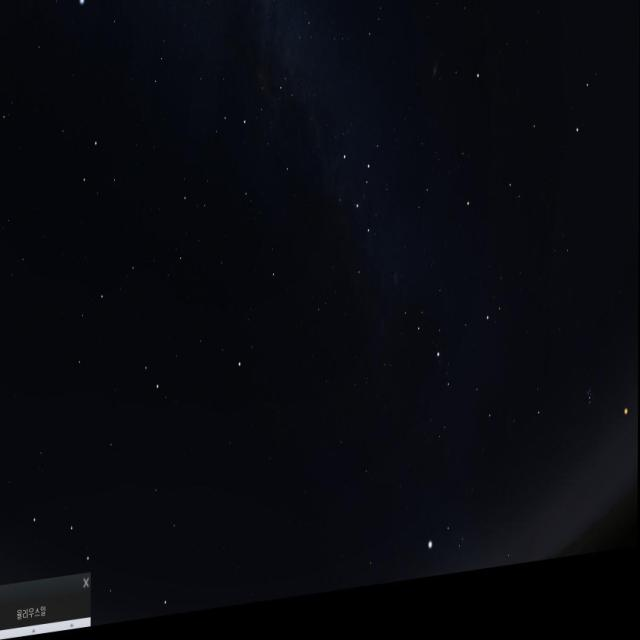cassiopeia: (341, 147, 382, 301)
pleiades: (582, 386, 600, 446)
